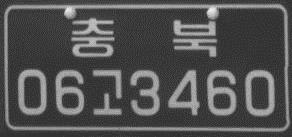0: (244, 68, 275, 117), (16, 68, 47, 116)
3: (128, 68, 160, 117)
4: (166, 67, 202, 118)
6: (54, 67, 86, 116), (205, 67, 237, 116)
고: (91, 67, 124, 118)
충북_D: (71, 15, 218, 59)
